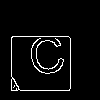C: (25, 25, 68, 76)
